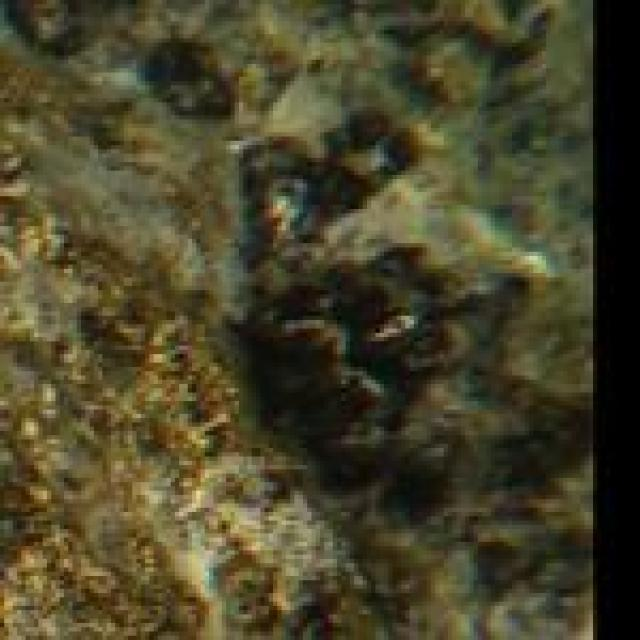Dead Coral: (241, 0, 575, 520)
